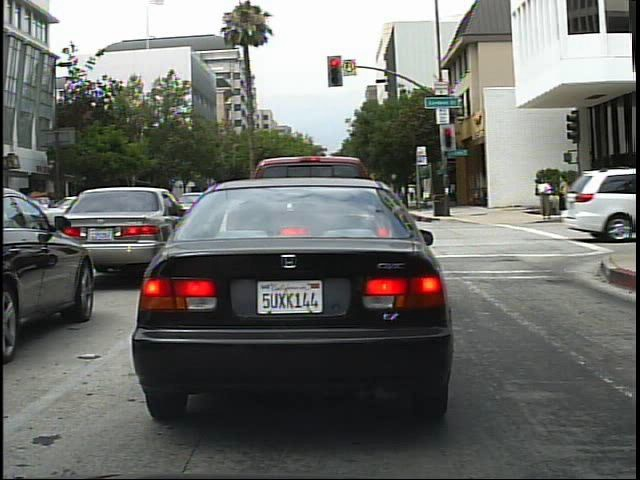person: (556, 171, 580, 222), (536, 171, 558, 221)
